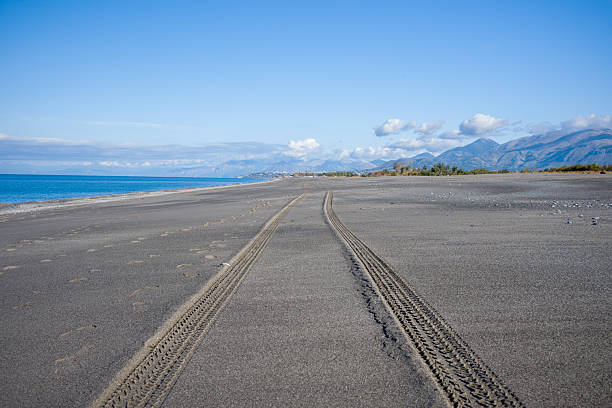vehicle_track: (92, 194, 303, 407), (324, 191, 522, 406)
